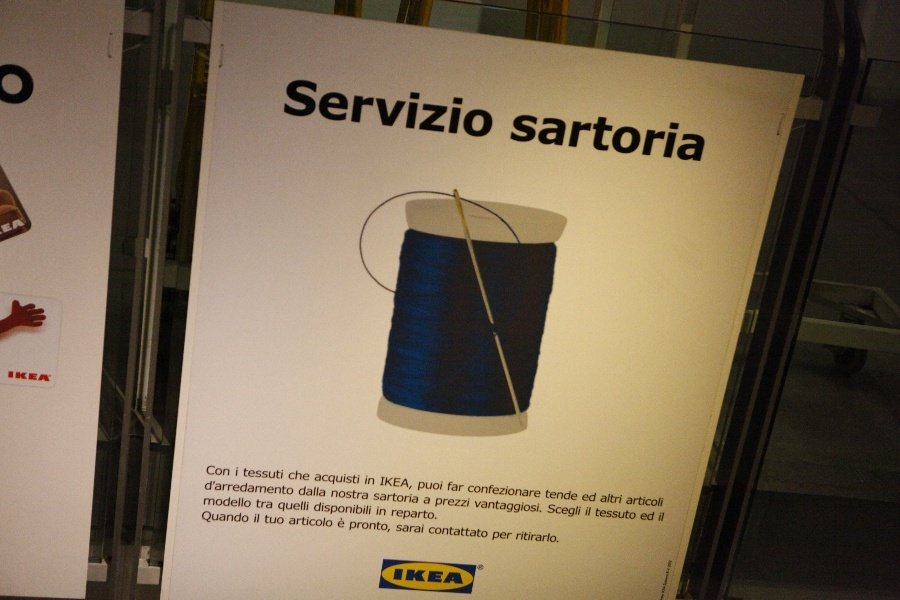text: (481, 76, 497, 144), (289, 76, 304, 144), (305, 76, 320, 144), (321, 76, 336, 144), (337, 76, 352, 144), (353, 76, 368, 144), (369, 76, 384, 144), (385, 76, 400, 144), (401, 76, 416, 144), (417, 76, 432, 144), (433, 76, 448, 144), (449, 76, 464, 144), (465, 76, 480, 144), (529, 106, 544, 167), (545, 106, 560, 167), (561, 106, 576, 167), (577, 106, 592, 167), (593, 106, 608, 167), (609, 106, 624, 167), (625, 106, 640, 167), (641, 106, 656, 167), (657, 106, 672, 167), (673, 106, 688, 167), (689, 106, 704, 167), (515, 106, 528, 167), (1, 65, 16, 106), (17, 65, 32, 106), (705, 106, 712, 167), (664, 560, 672, 600), (209, 480, 224, 498), (225, 480, 240, 498), (241, 480, 256, 498), (257, 480, 272, 498), (273, 480, 288, 498), (401, 569, 416, 585), (417, 569, 432, 585), (433, 569, 448, 585), (449, 569, 464, 585), (481, 483, 496, 499), (497, 483, 512, 499), (513, 483, 528, 499), (481, 500, 496, 516), (497, 500, 512, 516), (513, 500, 528, 516), (529, 500, 544, 516), (401, 509, 416, 524), (417, 509, 432, 524), (561, 504, 576, 519), (321, 502, 336, 516), (337, 502, 352, 516), (353, 502, 368, 516), (385, 477, 400, 491), (529, 483, 542, 499), (209, 511, 224, 524), (225, 511, 240, 524), (353, 521, 368, 534), (369, 521, 384, 534), (561, 490, 576, 503), (609, 508, 624, 521), (401, 477, 414, 491), (546, 490, 560, 503), (257, 468, 272, 480), (321, 474, 336, 486), (337, 474, 352, 486), (449, 481, 464, 493), (385, 493, 400, 505), (401, 493, 416, 505), (433, 527, 448, 539), (449, 527, 464, 539), (465, 527, 480, 539), (449, 497, 464, 509), (529, 532, 544, 544), (545, 532, 560, 544), (548, 504, 560, 519), (469, 483, 480, 499), (625, 508, 638, 521), (17, 371, 32, 382), (33, 371, 48, 382), (209, 465, 224, 476), (289, 470, 304, 481), (305, 486, 320, 497), (305, 516, 320, 527), (337, 490, 352, 501), (353, 490, 368, 501), (401, 524, 416, 535), (641, 497, 656, 508), (497, 531, 513, 541), (596, 508, 608, 521), (418, 481, 432, 492), (609, 494, 623, 505), (209, 498, 224, 508), (225, 498, 240, 508), (289, 502, 304, 512), (641, 512, 656, 522), (244, 468, 256, 480), (660, 511, 672, 523), (291, 516, 304, 527), (627, 497, 640, 508), (257, 500, 272, 509), (273, 468, 284, 480), (321, 516, 333, 527), (433, 481, 445, 492), (437, 497, 448, 509), (517, 532, 528, 544), (339, 518, 352, 528), (273, 515, 285, 525), (374, 493, 384, 505), (392, 509, 400, 524), (241, 511, 250, 524), (241, 498, 252, 508), (433, 509, 440, 524), (385, 521, 393, 534), (417, 524, 426, 535), (583, 493, 592, 504), (481, 527, 489, 539), (474, 500, 480, 516), (289, 480, 294, 498), (279, 502, 288, 512), (657, 497, 665, 508), (353, 474, 360, 486), (465, 497, 472, 509), (33, 65, 35, 106), (395, 569, 400, 585), (9, 371, 16, 382), (377, 506, 384, 517), (601, 494, 608, 505), (577, 504, 582, 519), (265, 515, 272, 525), (315, 502, 320, 516), (203, 511, 208, 524), (315, 474, 320, 486), (586, 507, 592, 517), (425, 497, 432, 505), (225, 465, 230, 476), (305, 470, 310, 481), (299, 486, 304, 497), (321, 486, 326, 497), (205, 480, 208, 498), (369, 476, 375, 485), (305, 502, 310, 512), (332, 490, 336, 501), (593, 493, 597, 504), (369, 502, 372, 516), (381, 477, 384, 491), (204, 498, 208, 508), (673, 560, 674, 600), (236, 468, 240, 477), (417, 493, 420, 505), (397, 524, 400, 535), (49, 375, 64, 377), (257, 514, 260, 524), (493, 531, 496, 541), (577, 490, 579, 503), (430, 527, 432, 539), (49, 371, 51, 382), (385, 506, 387, 517), (481, 565, 484, 571), (366, 476, 368, 485), (351, 521, 352, 534), (478, 565, 480, 571), (465, 481, 466, 493), (207, 465, 208, 476), (369, 490, 370, 501), (255, 514, 256, 524)
